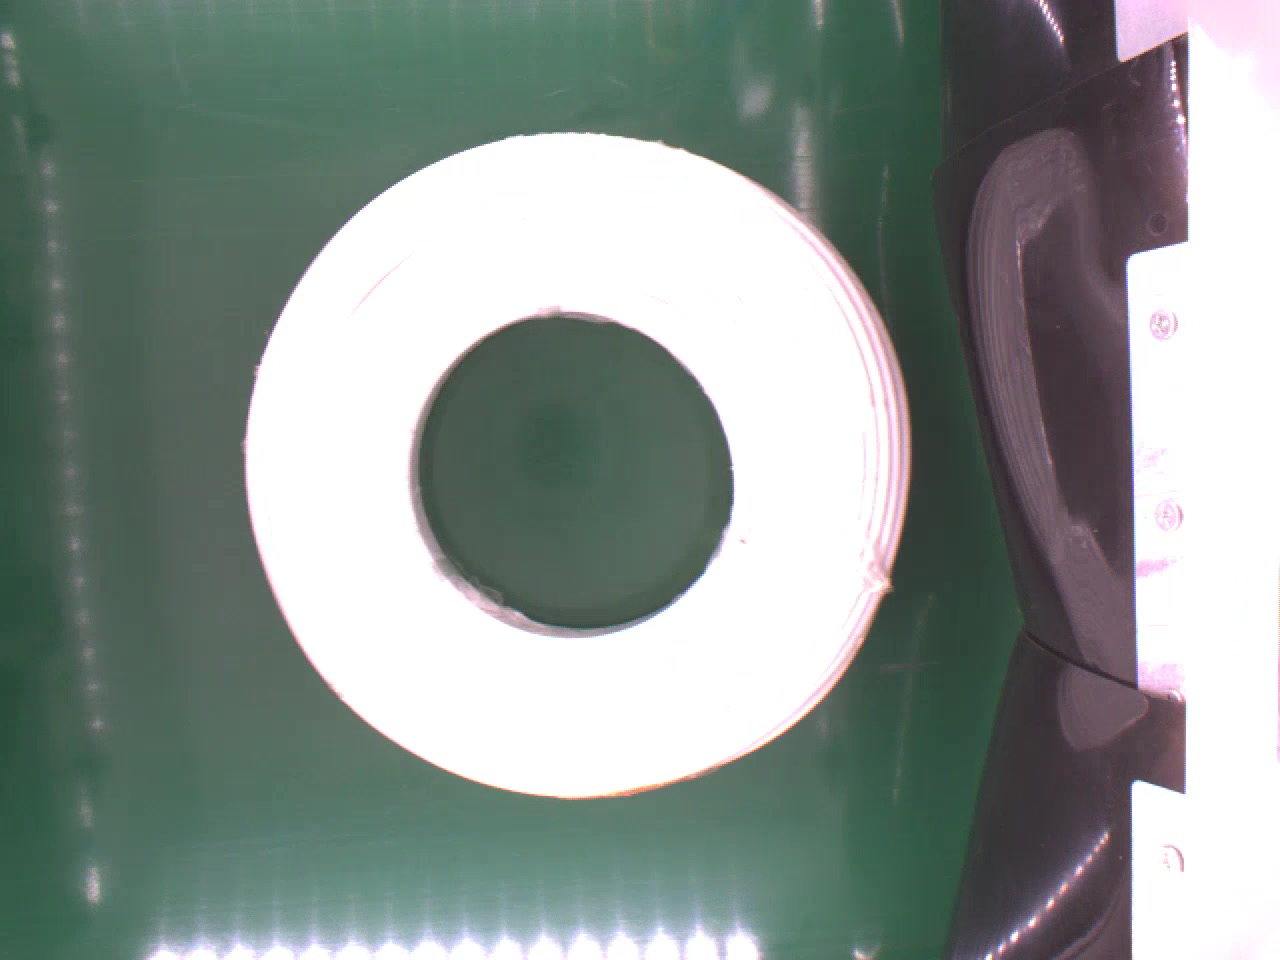white: (241, 124, 906, 797)
